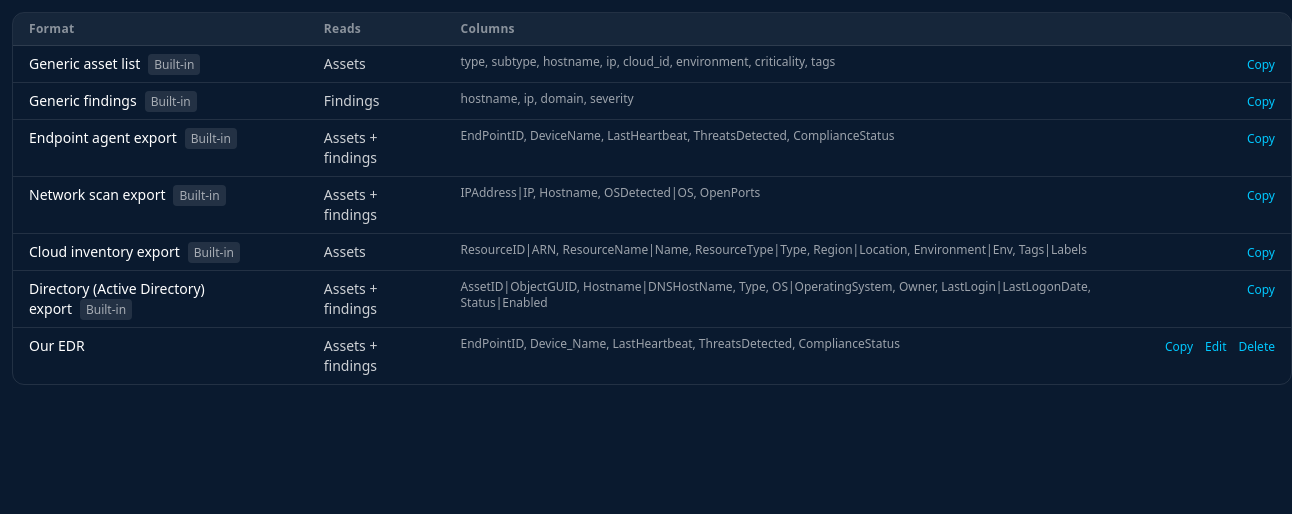
Test case: ImportProfilesPanel › shows why a copy was refused
The image size is (1292, 514).
Click the button with aria-label "Copy Our EDR". click: (1179, 347)
box: [1165,339,1193,355]
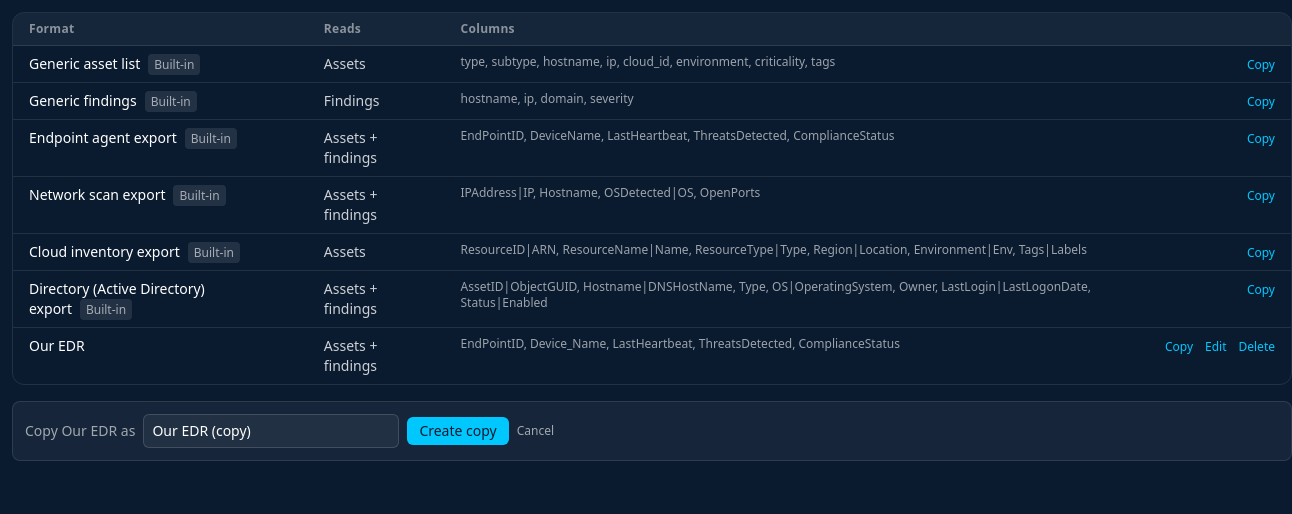
Replace the text in the field named "New format name" with "Our EDR". click: (271, 431)
box: [143,414,399,448]
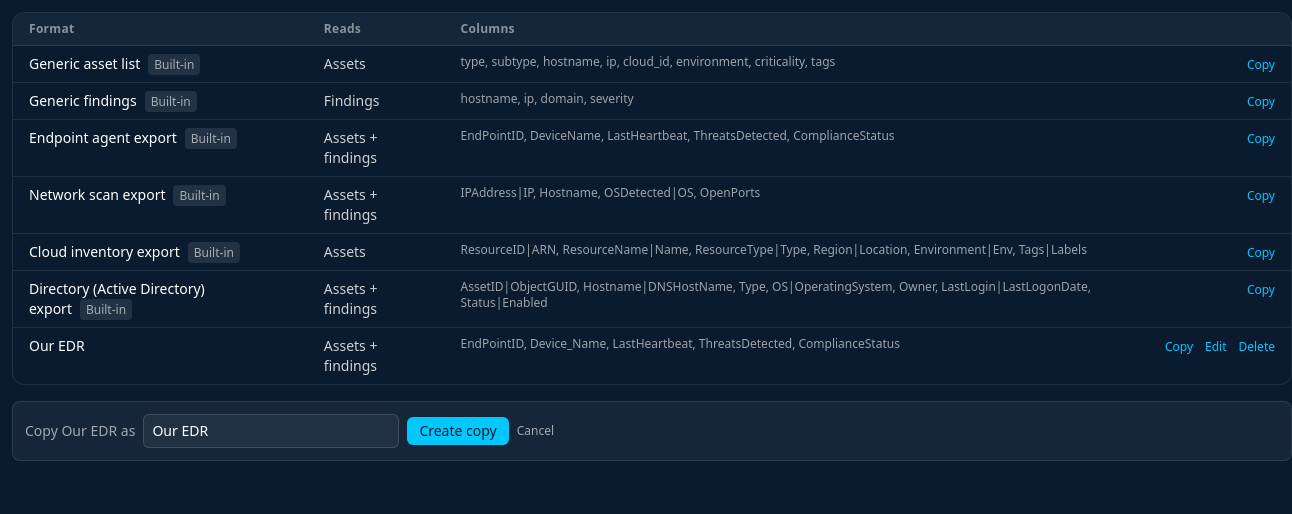
Click the button "Create copy". click: (458, 431)
box: [407,417,509,445]
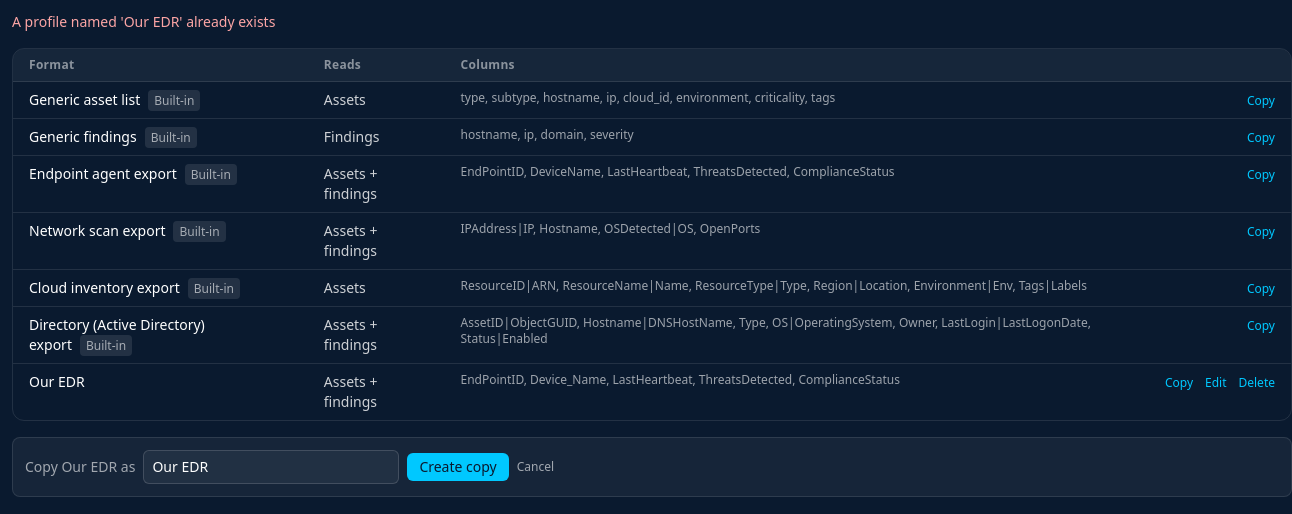
Now the text "A profile named 'Our EDR' already exists" is shown, box [12,12,275,31]
